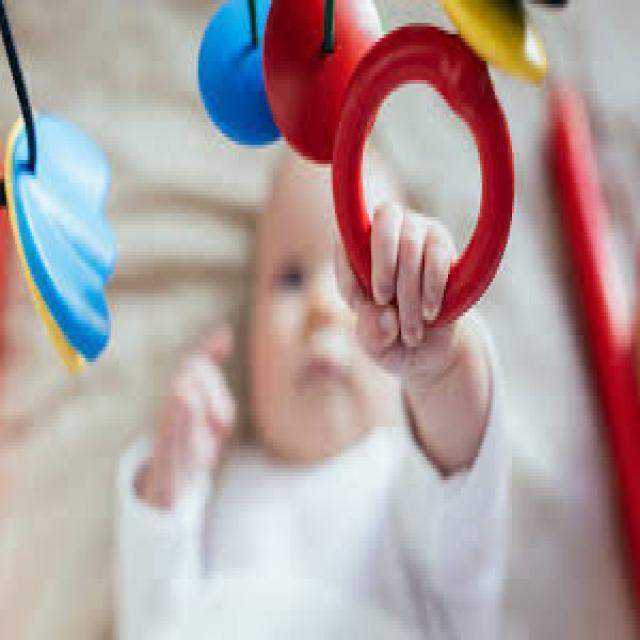hard-toy: (199, 0, 545, 324)
